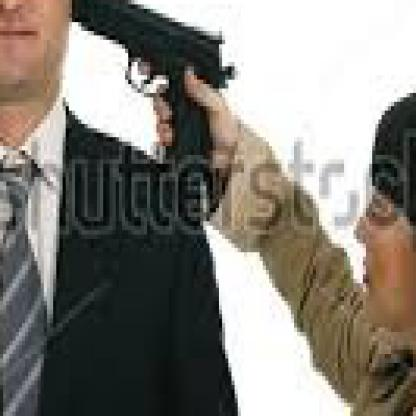gun: (63, 0, 235, 199)
